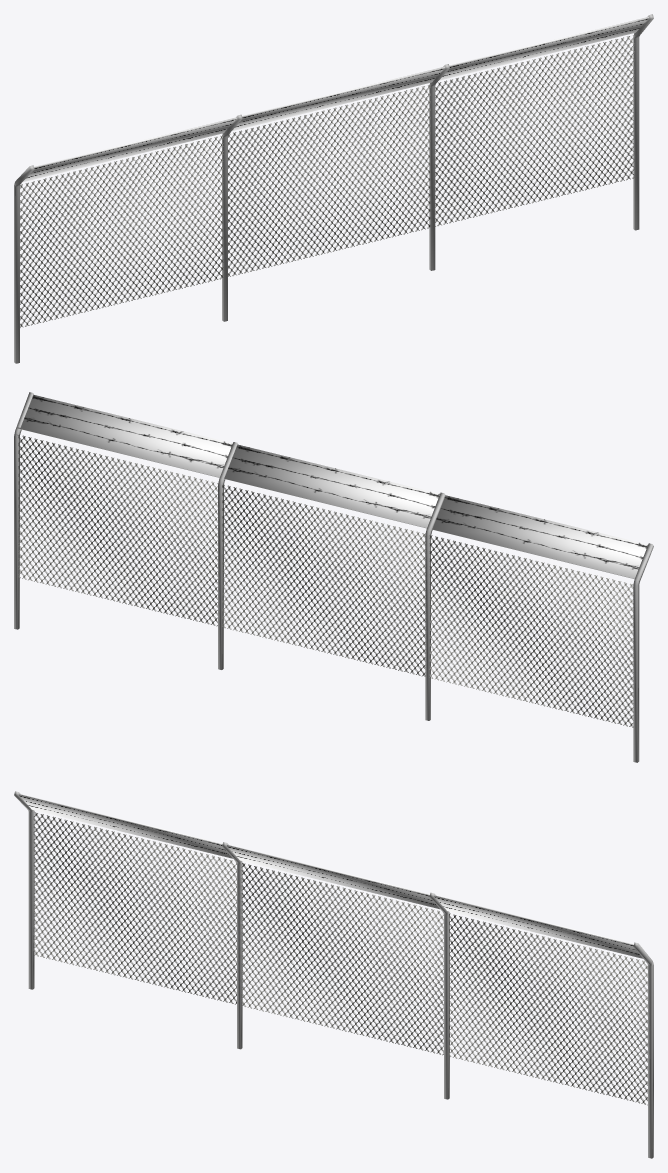
The model's file is fence1.fbx.
3 views of the same model, one above another, from view 1: azimuth 30°, elevation 25°; view 2: azimuth 150°, elevation 25°; view 3: azimuth 330°, elevation 25° (orthographic).
Visible parts, largest first — view 1: cyclone0, barbwire0, posts0; view 2: cyclone0, barbwire0, posts0; view 3: cyclone0, barbwire0, posts0.
Part boxes in pixels (box(x1,y1,x2,y2)): cyclone0: box(20, 35, 634, 327); barbwire0: box(22, 17, 648, 182); posts0: box(14, 14, 653, 363); cyclone0: box(17, 434, 633, 727); barbwire0: box(17, 394, 647, 578); posts0: box(14, 392, 653, 762); cyclone0: box(33, 812, 647, 1105); barbwire0: box(19, 794, 642, 958); posts0: box(14, 791, 653, 1158).
Bounding box in the file's own units: 12.23 × 4.22 × 0.5678.
